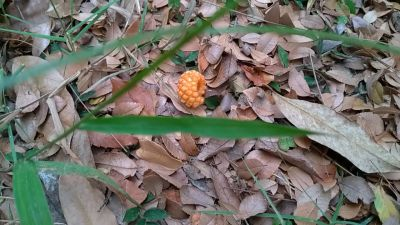eggs: (175, 68, 207, 108)
